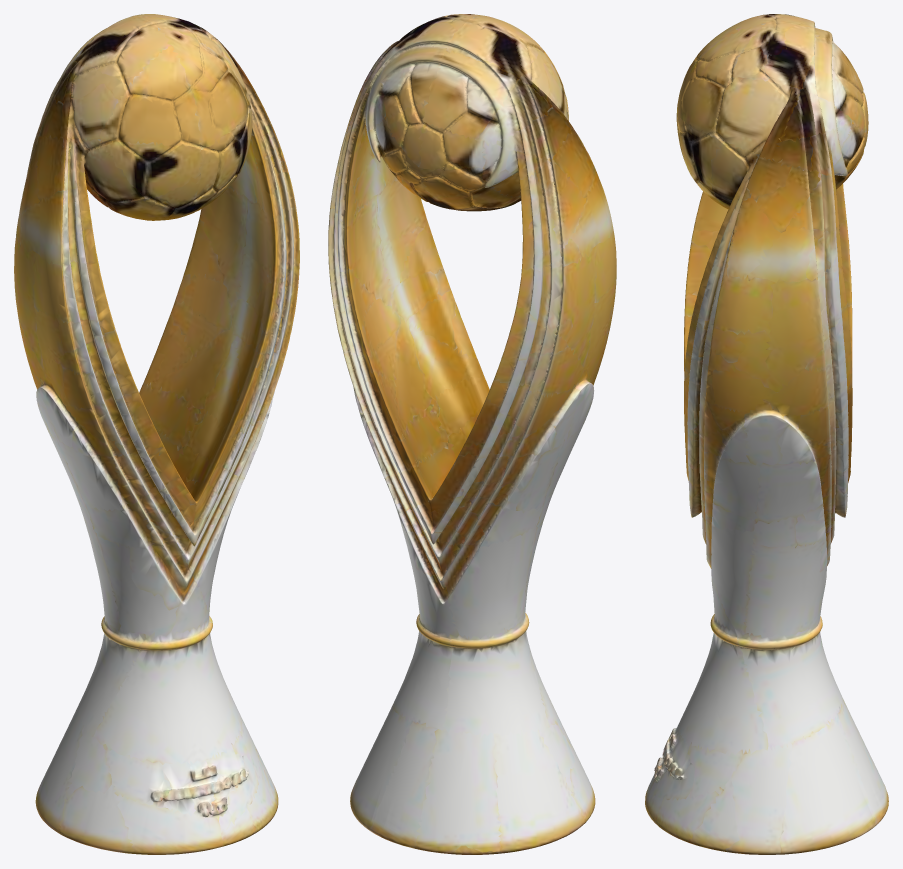
File: caf-champions-league.mobile.glb
The picture shows the model from 3 angles, left to right: view 1: azimuth 30°, elevation 25°; view 2: azimuth 150°, elevation 25°; view 3: azimuth 270°, elevation 25°; orthographic projection.
Visible parts, largest first — view 1: mesh_node; view 2: mesh_node; view 3: mesh_node.
Boxes of the visible parts, x1,y1,x2,y2 form: mesh_node: (14, 14, 299, 854); mesh_node: (328, 14, 616, 854); mesh_node: (645, 14, 888, 854).
Size of the model in its own units: 0.6258 by 1.9 by 0.5344.
Materials: 1 (1 with a texture image).
